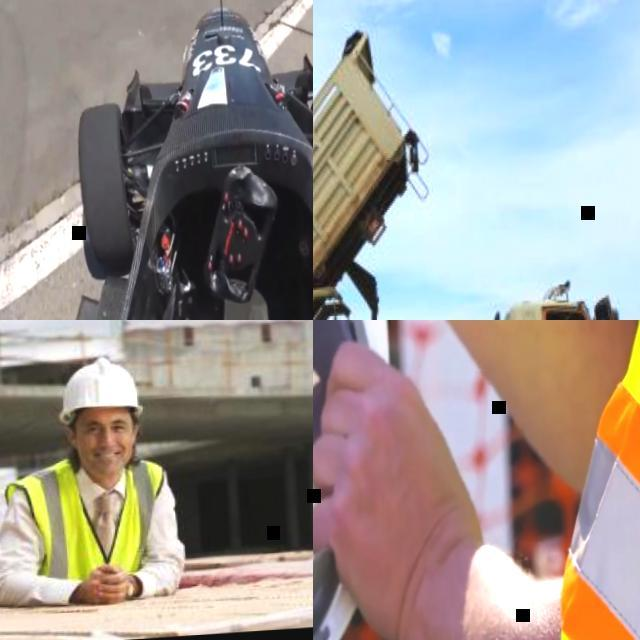Weapon: (8, 348, 236, 622)
objects: (40, 346, 199, 490)
